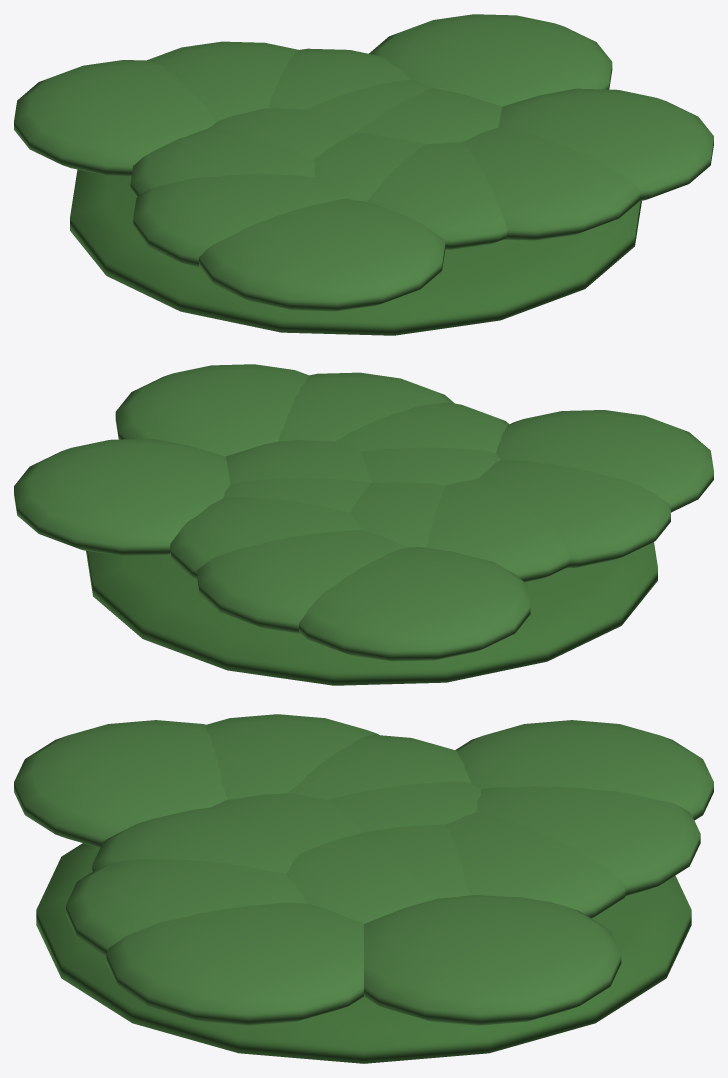
The model's file is groundcover.gltf.
3 renders of one model, top to bottom at view 1: azimuth 30°, elevation 25°; view 2: azimuth 150°, elevation 25°; view 3: azimuth 270°, elevation 25°, orthographic. The views are drawn at different scales.
Parts seen in each view (by area): view 1: Mat, Leaf6, Leaf10, Leaf14, Leaf2, Leaf3, Leaf7, Leaf4, Leaf11, Leaf8, Leaf12, Leaf1 (+3 smaller); view 2: Mat, Leaf10, Leaf14, Leaf6, Leaf2, Leaf11, Leaf7, Leaf8, Leaf12, Leaf3, Leaf4, Leaf1 (+3 smaller); view 3: Mat, Leaf14, Leaf2, Leaf6, Leaf10, Leaf11, Leaf3, Leaf12, Leaf7, Leaf1, Leaf4, Leaf8 (+3 smaller).
Part boxes in pixels (x1,y1,x2,y2): Mat: (70,169,641,335); Leaf6: (199,199,445,311); Leaf10: (14,60,216,176); Leaf14: (369,14,612,106); Leaf2: (498,88,713,200); Leaf3: (462,127,640,240); Leaf7: (133,174,347,267); Leaf4: (367,142,507,249); Leaf11: (146,41,298,121); Leaf8: (130,128,315,197); Leaf12: (268,48,410,109); Leaf1: (356,88,502,144); Mat: (86,542,657,685); Leaf10: (299,547,530,661); Leaf14: (14,438,230,555); Leaf6: (496,410,713,512); Leaf2: (115,364,308,456); Leaf11: (197,530,407,633); Leaf7: (479,460,670,568); Leaf8: (425,478,569,582); Leaf12: (170,496,361,578); Leaf3: (278,372,454,441); Leaf4: (335,402,509,452); Leaf1: (225,439,371,484); Mat: (36,843,691,1063); Leaf14: (364,895,621,1025); Leaf2: (106,903,363,1025); Leaf6: (14,720,226,847); Leaf10: (455,720,713,820); Leaf11: (475,786,700,895); Leaf3: (66,859,307,956); Leaf12: (446,812,625,917); Leaf7: (206,714,379,799); Leaf1: (286,832,435,923); Leaf4: (92,807,297,873); Leaf8: (288,734,471,799).
Size of the model in its own units: 0.6397 by 0.1336 by 0.6313.
